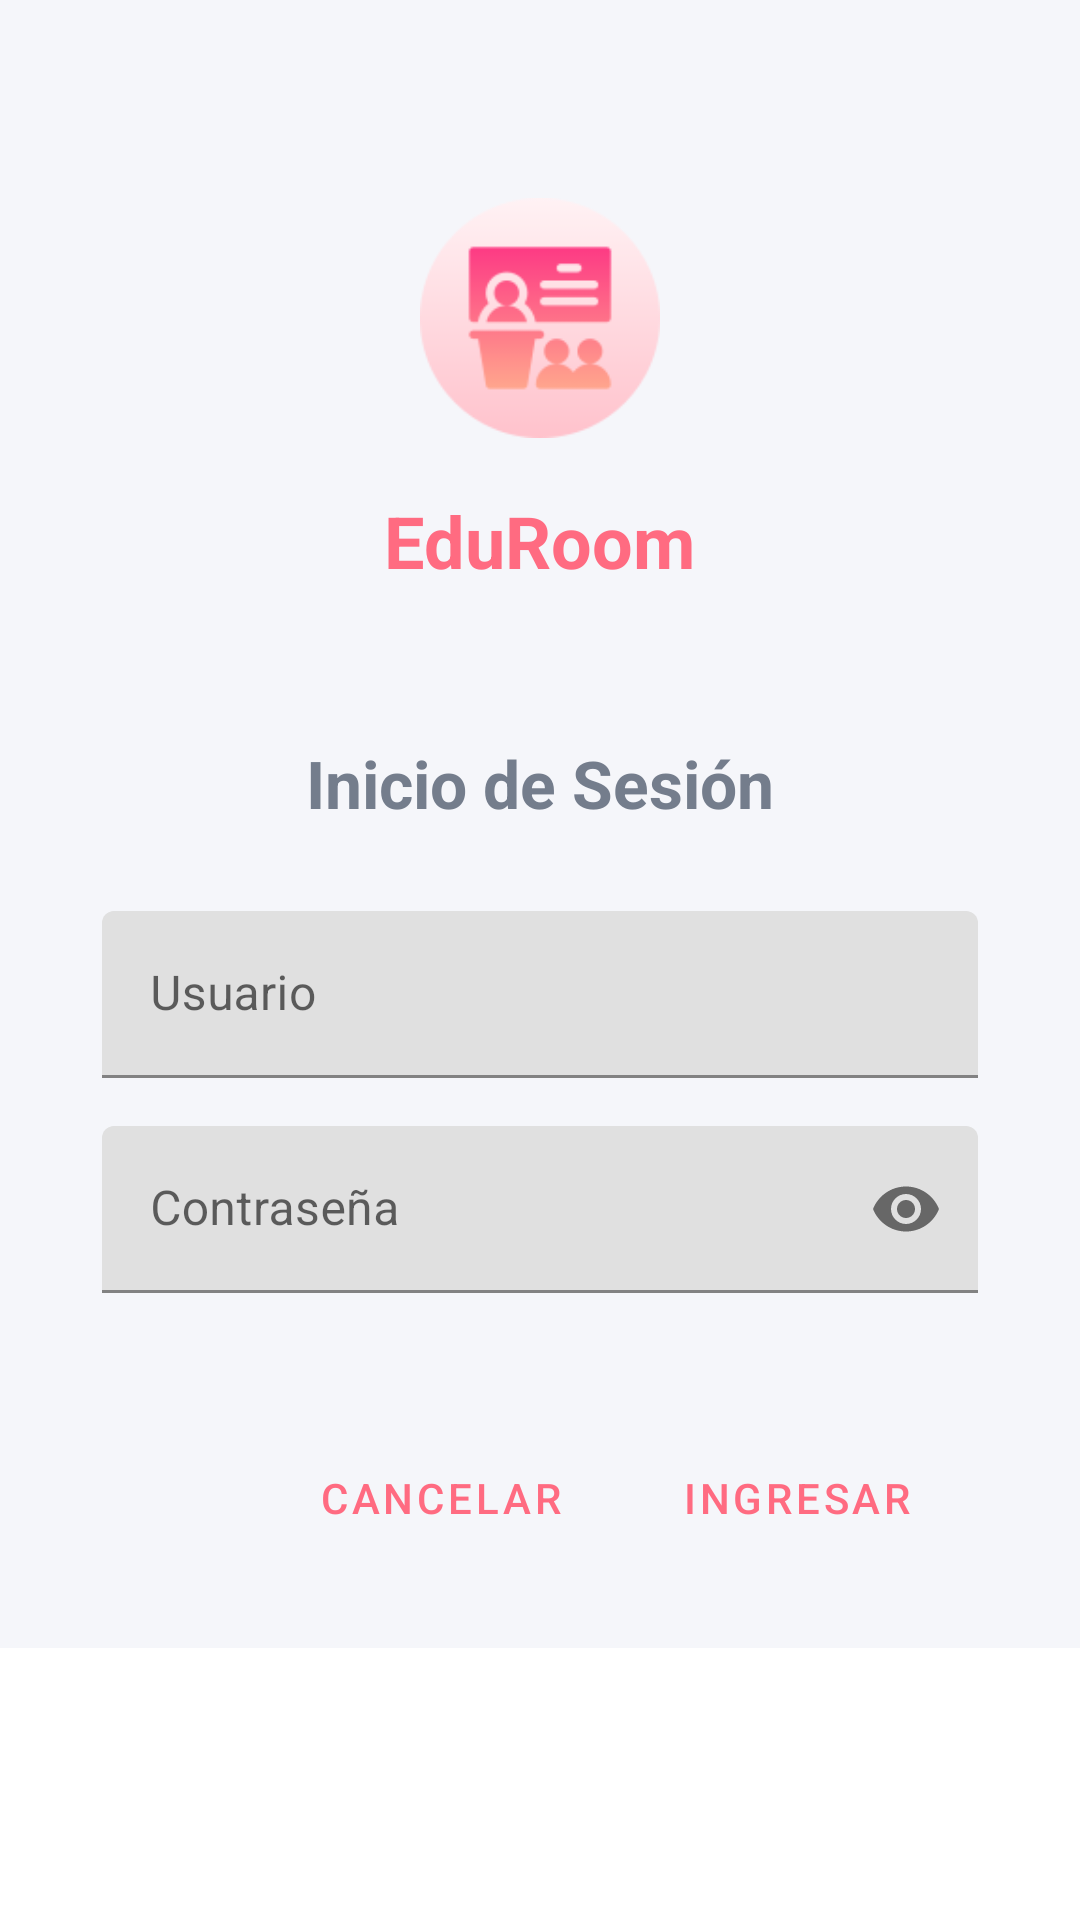

Point at icon controls on the screen. Image size 1080 × 1920, points as (x=x, y=y).
app: (x=540, y=342)
